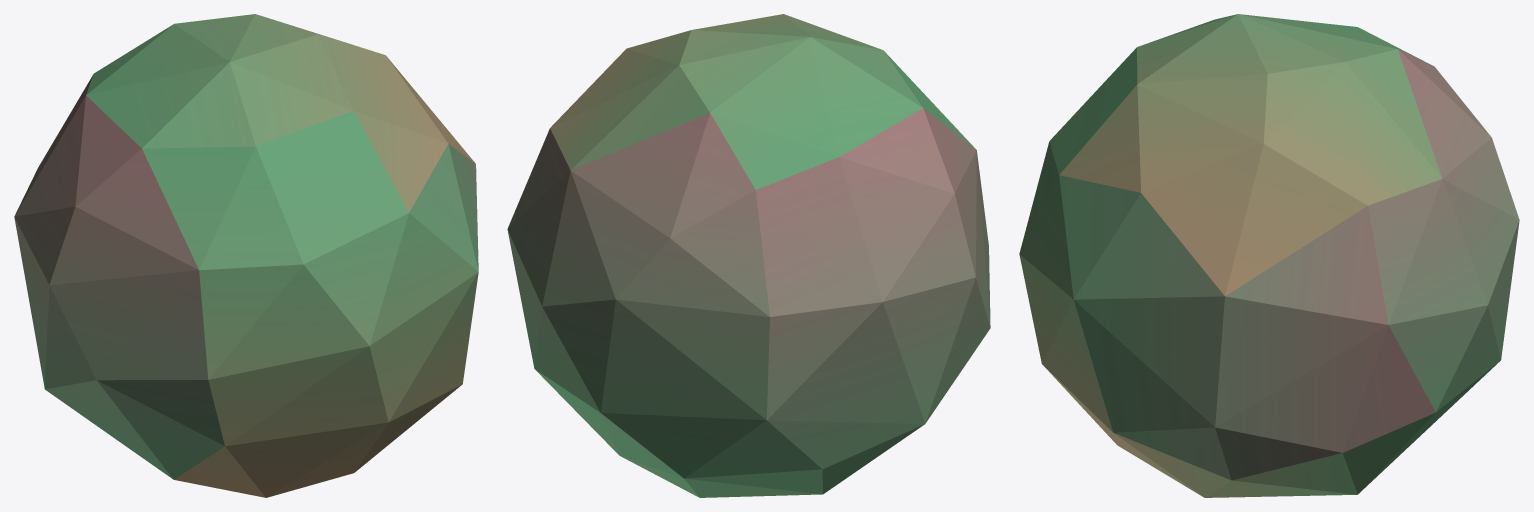
Rendered from cloneObject.obj.
3 renders of one model, left to right at view 1: azimuth 30°, elevation 25°; view 2: azimuth 150°, elevation 25°; view 3: azimuth 270°, elevation 25°, orthographic. The views are drawn at different scales.
Parts seen in each view (by area): view 1: cloneObject; view 2: cloneObject; view 3: cloneObject.
Boxes of the visible parts, x1,y1,x2,y2 form: cloneObject: (14, 14, 478, 497); cloneObject: (507, 14, 990, 497); cloneObject: (1019, 14, 1519, 497).
Bounding box in the file's own units: 0.8369 × 0.8414 × 0.8514.
Materials: 1 (1 with a texture image).
